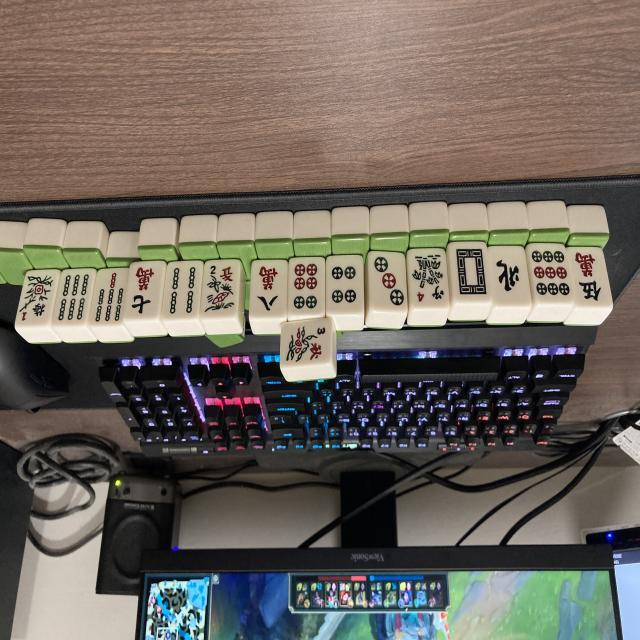bai: (448, 246, 489, 304)
f1: (19, 272, 60, 326)
f4: (407, 250, 449, 308)
ff2: (199, 262, 240, 318)
ff3: (283, 321, 332, 368)
m5: (570, 248, 614, 308)
m7: (124, 263, 165, 319)
m8: (251, 262, 290, 318)
north: (488, 249, 529, 306)
s4: (162, 262, 202, 320)
s6: (54, 270, 96, 326)
s7: (90, 269, 129, 325)
t3: (367, 253, 409, 312)
t4: (327, 258, 366, 314)
t6: (288, 260, 325, 317)
t9: (526, 246, 572, 305)
